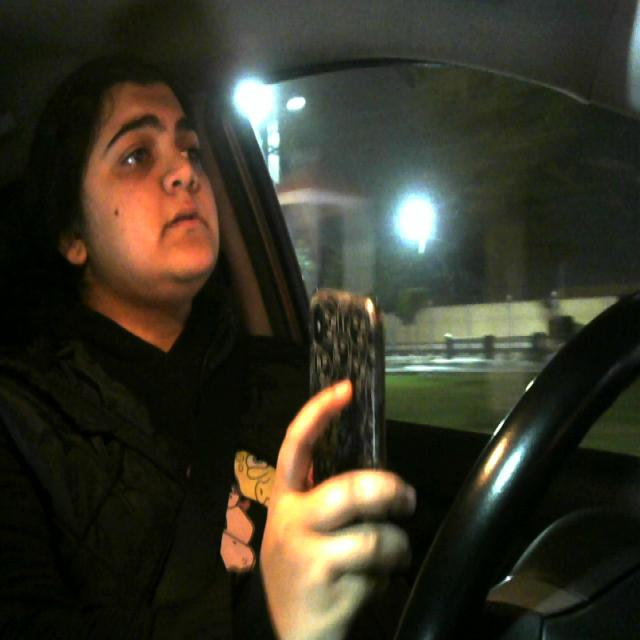mobile use: (303, 280, 398, 539)
